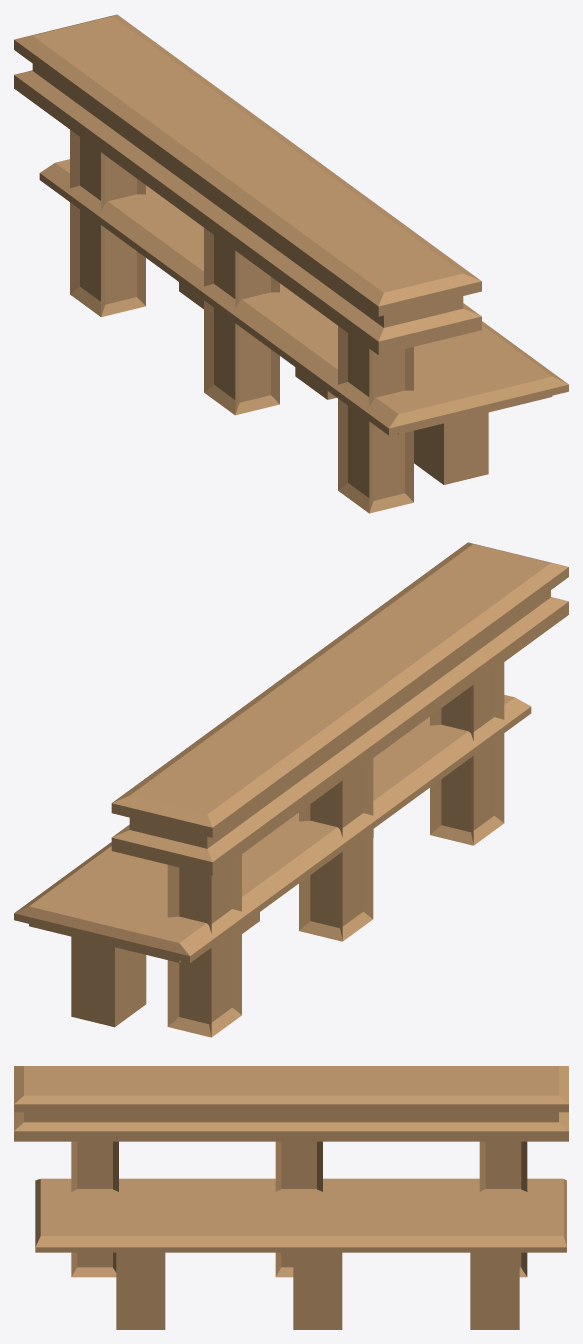
File: ChurchBench.FBX
3 views of the same model, one above another, from view 1: azimuth 30°, elevation 25°; view 2: azimuth 150°, elevation 25°; view 3: azimuth 270°, elevation 25° (orthographic). The views are drawn at different scales.
Parts seen in each view (by area): view 1: Box005, Box001, Box010, Box009, Box004, Box006; view 2: Box005, Box001, Box004, Box009, Box010, Box008; view 3: Box005, Box001, Box008, Box006, Box007, Box010, Box009, Box004.
Part boxes in pixels (box(x1,y1,x2,y2)): Box005: box(14, 14, 481, 355); Box001: box(39, 159, 568, 435); Box010: box(338, 326, 413, 513); Box009: box(204, 228, 279, 415); Box004: box(70, 130, 145, 317); Box006: box(414, 412, 488, 484); Box005: box(111, 542, 568, 875); Box001: box(14, 695, 531, 962); Box004: box(167, 854, 241, 1037); Box009: box(299, 758, 373, 941); Box010: box(430, 662, 504, 845); Box008: box(71, 936, 146, 1027); Box005: box(14, 1066, 568, 1141); Box001: box(35, 1178, 566, 1252); Box008: box(470, 1252, 519, 1329); Box006: box(116, 1252, 165, 1329); Box007: box(293, 1252, 342, 1329); Box010: box(71, 1141, 118, 1277); Box009: box(275, 1141, 322, 1277); Box004: box(479, 1141, 527, 1277).
Size of the model in its own units: 23.31 by 28.97 by 71.94.
1 material, 1 textured.
